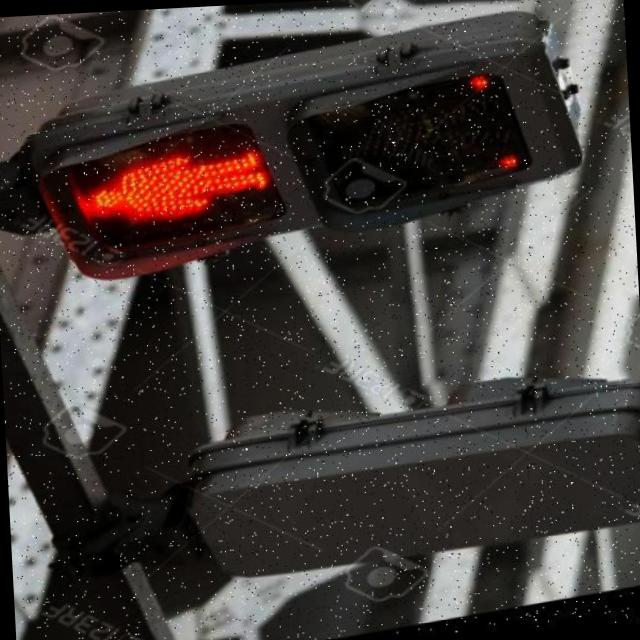red_light: (70, 130, 274, 256)
